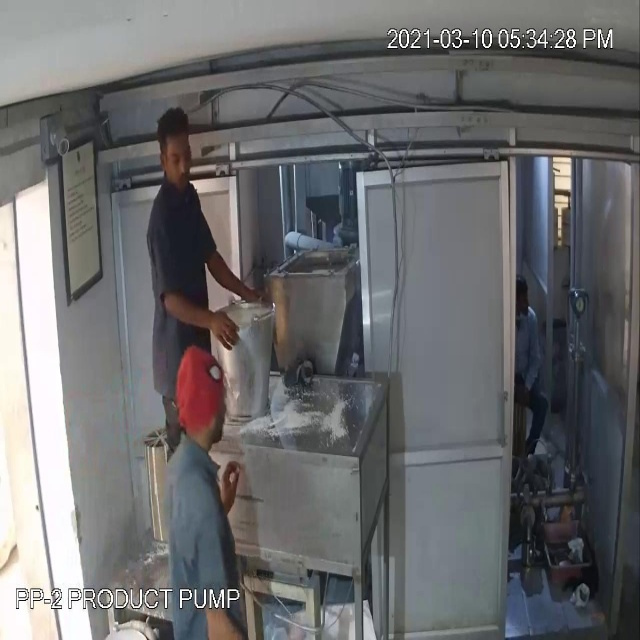Sin_guantes: (158, 281, 240, 358), (200, 238, 269, 326)
